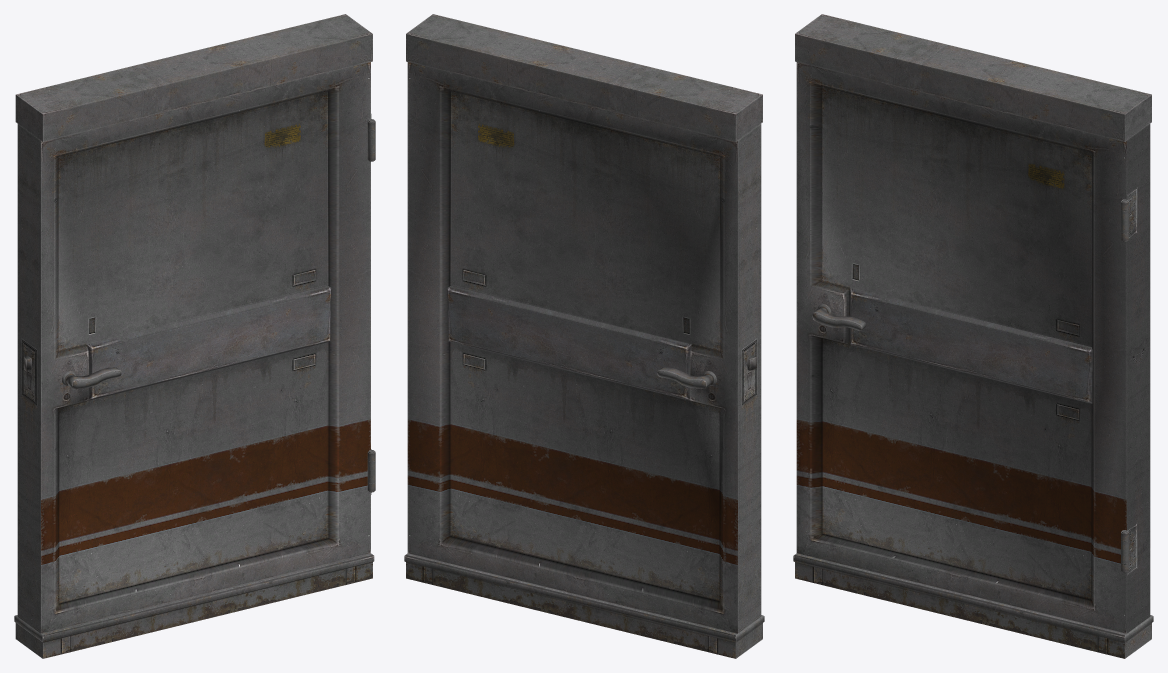
File: swingdoor_hall_metal.dae
The picture shows the model from 3 angles, left to right: view 1: azimuth 30°, elevation 25°; view 2: azimuth 150°, elevation 25°; view 3: azimuth 330°, elevation 25°; orthographic projection.
Parts seen in each view (by area): view 1: swingdoor_hall_metal; view 2: swingdoor_hall_metal; view 3: swingdoor_hall_metal.
Boxes of the visible parts, x1,y1,x2,y2 form: swingdoor_hall_metal: (14,14,375,658); swingdoor_hall_metal: (404,14,764,658); swingdoor_hall_metal: (793,14,1153,658).
Bounding box in the file's own units: 179 × 276 × 36.6.
